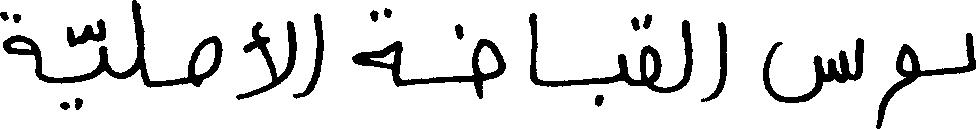X: (762, 37, 849, 107), (238, 16, 295, 104), (351, 3, 396, 90), (878, 39, 920, 128), (471, 34, 505, 103), (189, 31, 220, 91), (0, 7, 34, 60), (640, 9, 659, 97), (714, 17, 727, 103), (133, 0, 144, 89), (683, 15, 693, 91), (97, 14, 108, 80), (314, 8, 322, 92), (531, 8, 538, 89), (965, 28, 975, 76), (617, 49, 628, 89), (857, 33, 862, 84)
